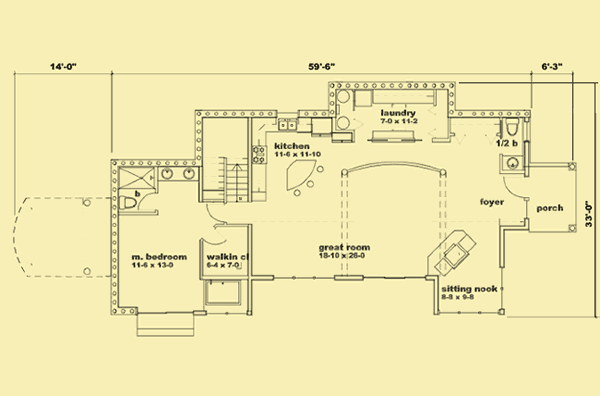bathroom has a shower with small and large sink: (108, 154, 205, 217)
bathroom has a small and large sink: (498, 111, 533, 177)
kitchen has a twin sink and cooking range with kitchen bar: (246, 110, 341, 205)
laundry room has a washer and dryer: (331, 80, 456, 149)
